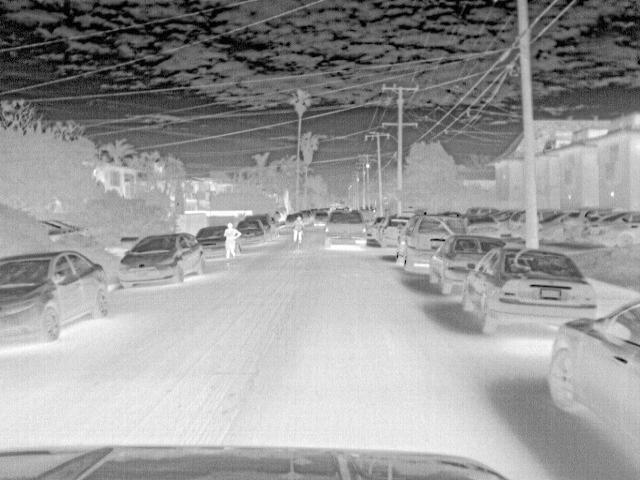car: (547, 301, 638, 466), (460, 248, 598, 336), (0, 252, 112, 354), (112, 233, 206, 290), (426, 233, 504, 299), (394, 216, 471, 272), (582, 209, 638, 250), (322, 208, 368, 250), (191, 223, 229, 267), (538, 209, 577, 244), (376, 216, 412, 250), (236, 218, 268, 250), (464, 214, 501, 235), (508, 208, 527, 238), (463, 206, 499, 216), (313, 211, 330, 228)
person: (223, 222, 240, 262), (290, 214, 306, 248)
